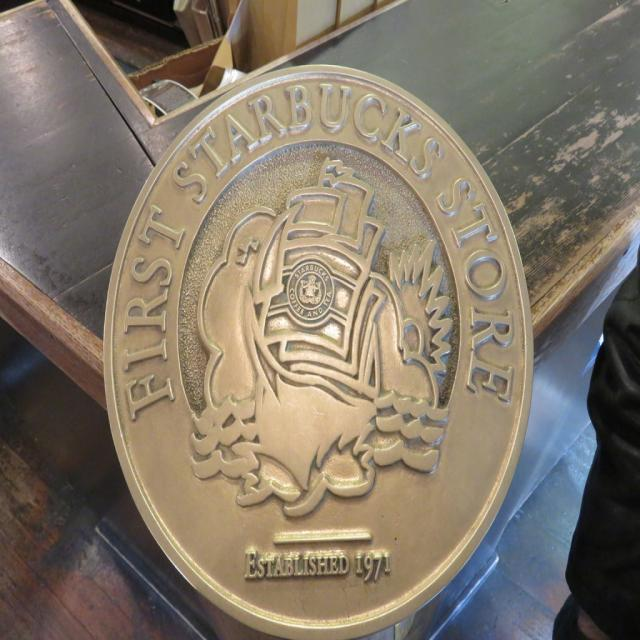Coin: (102, 62, 538, 639)
